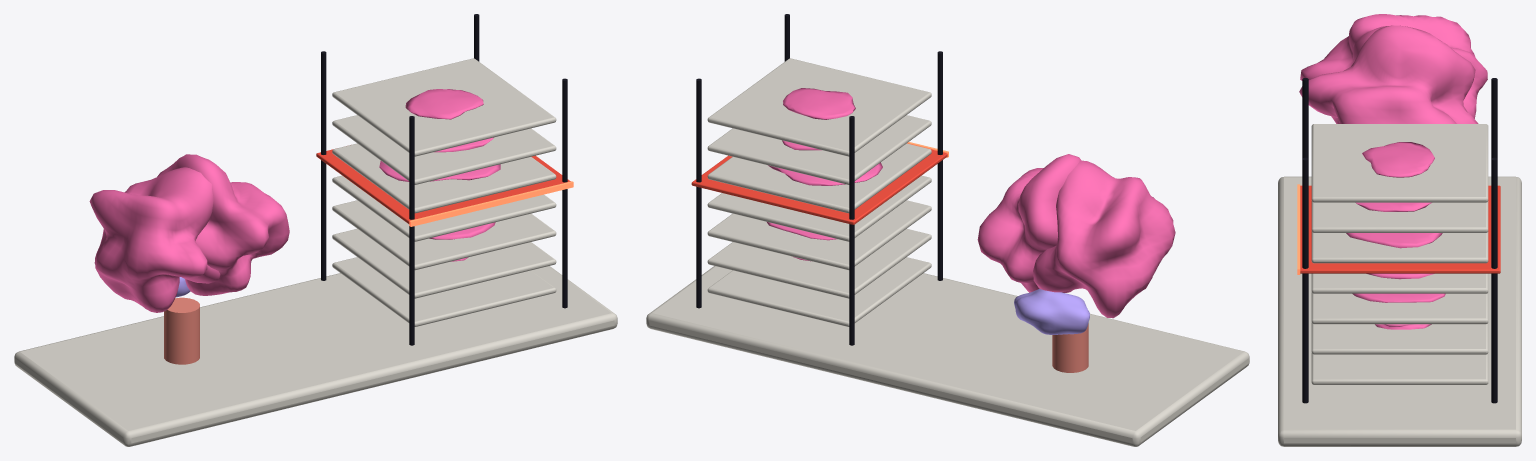
The model's file is brain.glb.
3 renders of one model, left to right at view 1: azimuth 30°, elevation 25°; view 2: azimuth 150°, elevation 25°; view 3: azimuth 270°, elevation 25°, orthographic. The views are drawn at different scales.
Visible parts, largest first — view 1: base, slices, brain.001, frame, slide_scan; view 2: base, slices, brain.001, frame, slide_scan; view 3: slices, base, brain.001, frame, slide_scan.
Boxes of the visible parts, box(x1,y1,x2,y2) form: base: box(14, 266, 617, 446); slices: box(332, 58, 556, 326); brain.001: box(89, 154, 289, 364); frame: box(321, 14, 567, 345); slide_scan: box(316, 149, 573, 226); base: box(646, 266, 1249, 446); slices: box(707, 58, 931, 326); brain.001: box(977, 154, 1175, 372); frame: box(696, 14, 942, 345); slide_scan: box(691, 142, 948, 224); slices: box(1311, 124, 1488, 384); base: box(1278, 176, 1521, 446); brain.001: box(1299, 14, 1487, 123); frame: box(1302, 78, 1497, 403); slide_scan: box(1297, 184, 1500, 274).
Bounding box in the file's own units: 10 × 4.85 × 4.
